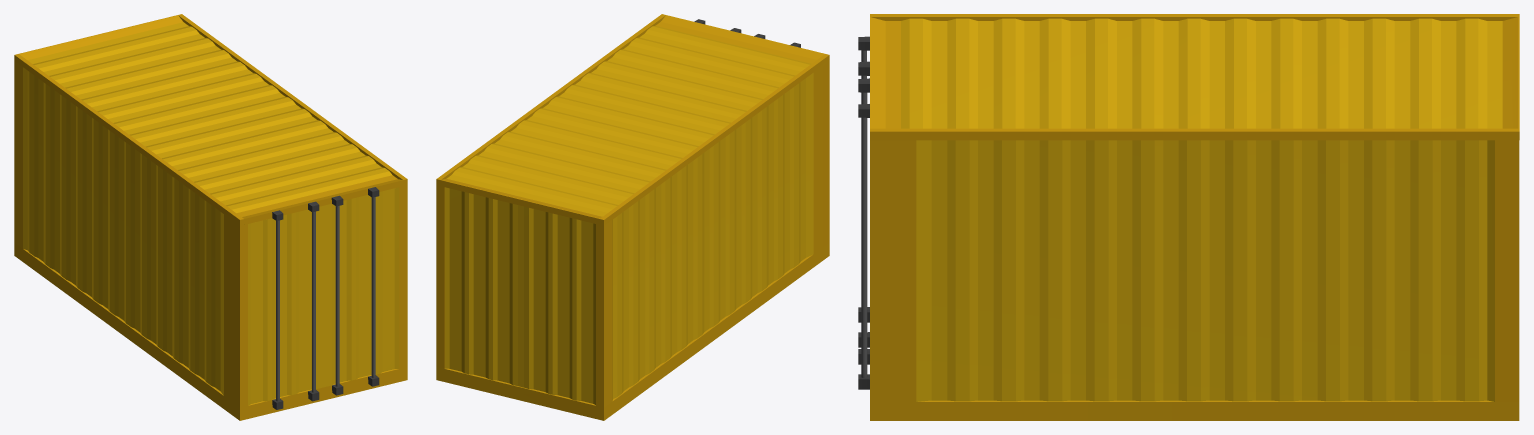
File: Small Yellow Shipping Container Closed.fbx
3 renders of one model, left to right at view 1: azimuth 30°, elevation 25°; view 2: azimuth 150°, elevation 25°; view 3: azimuth 270°, elevation 25°, orthographic. The views are drawn at different scales.
Visible parts, largest first — view 1: Small Yellow Shipping Container Closed; view 2: Small Yellow Shipping Container Closed; view 3: Small Yellow Shipping Container Closed.
Part boxes in pixels (x1,y1,x2,y2): Small Yellow Shipping Container Closed: (14,14,407,420); Small Yellow Shipping Container Closed: (436,14,829,420); Small Yellow Shipping Container Closed: (858,14,1519,420).
Bounding box in the file's own units: 1052 × 2179 × 918.
Materials: 1 (1 with a texture image).
